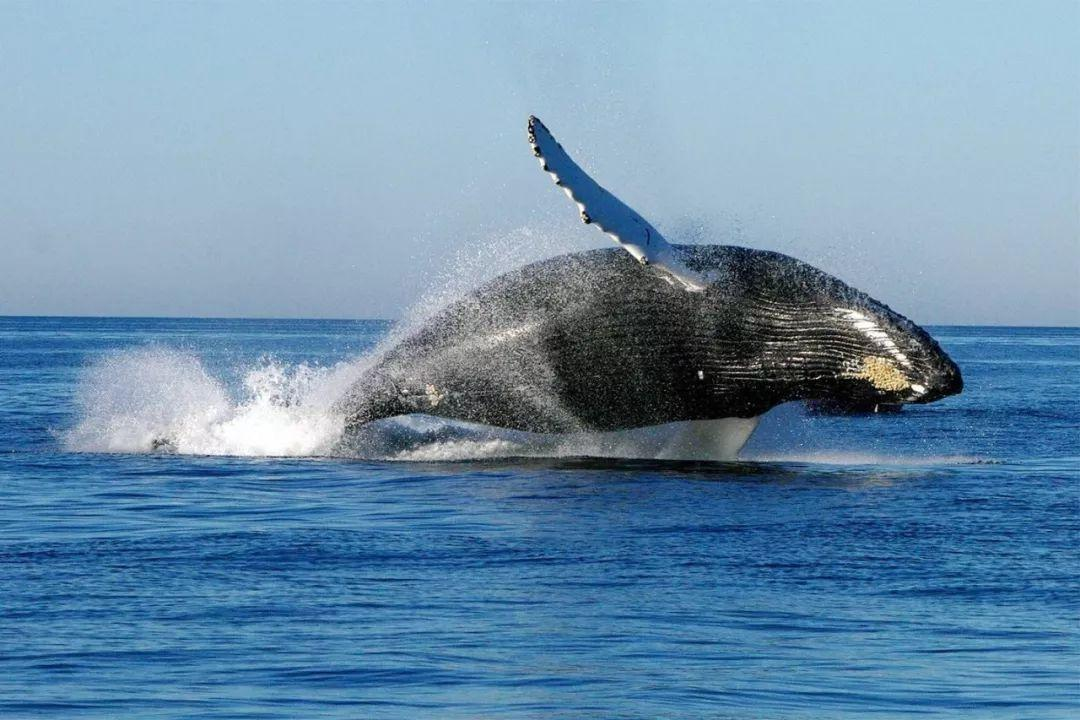fish: (241, 111, 968, 468)
